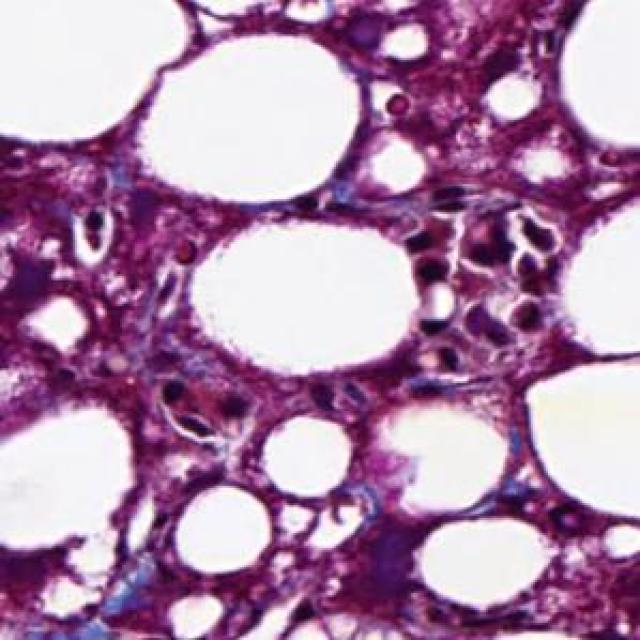inflammation: (398, 180, 569, 385), (144, 370, 266, 464), (62, 208, 120, 268)
